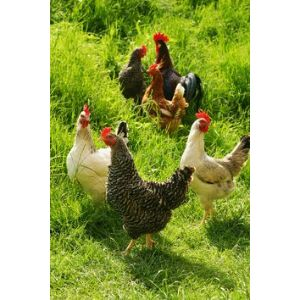hen: (97, 127, 197, 254), (180, 109, 249, 225), (63, 102, 133, 216), (150, 29, 203, 106), (142, 63, 187, 137), (117, 43, 150, 104)
